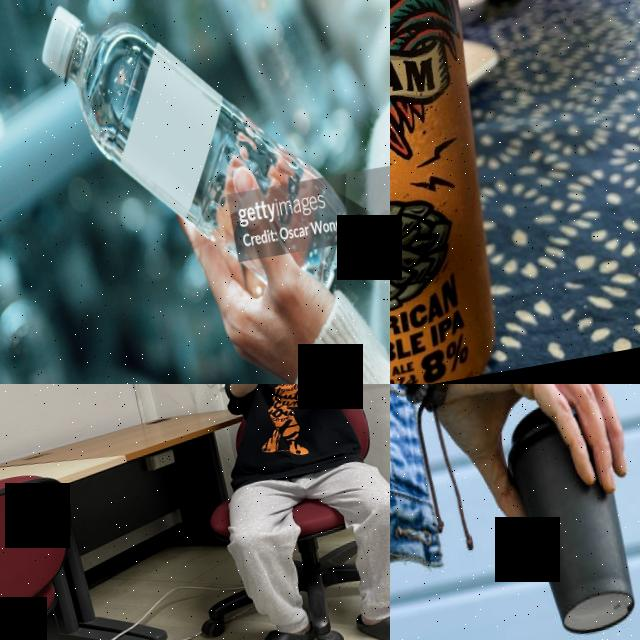bottle: (29, 0, 360, 335)
can: (390, 0, 533, 384)
cup: (496, 395, 640, 640)
